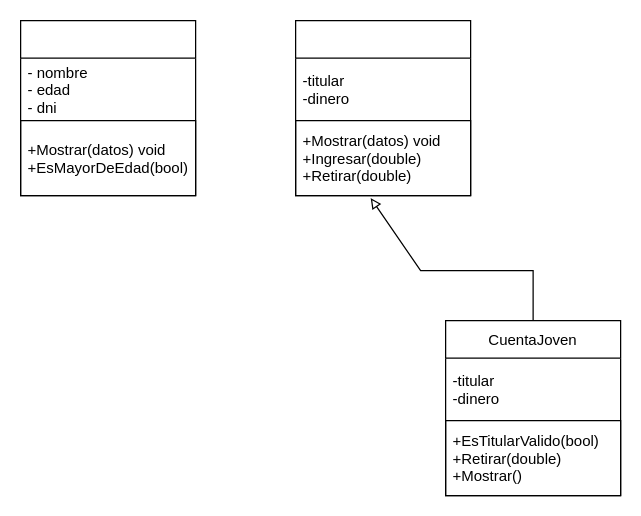
Image size: 641x516. Some labels were removed from this diagram. The shapes that lost their labels are listed below. From the top down, each one's box as (x1, y1, x2, y2) in pixels, then its label:
(19, 19, 196, 196): Persona
(294, 19, 471, 196): Cuenta
